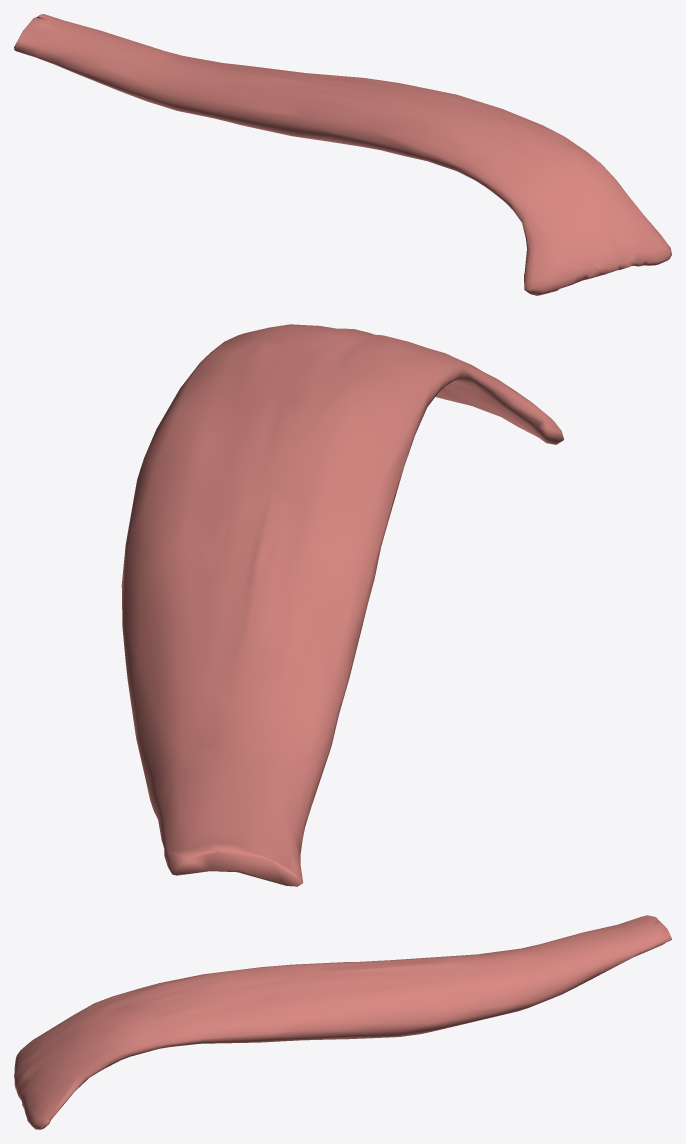
3 renders of one model, top to bottom at view 1: azimuth 30°, elevation 25°; view 2: azimuth 150°, elevation 25°; view 3: azimuth 270°, elevation 25°, orthographic. The views are drawn at different scales.
Visible parts, largest first — view 1: ZA_4c799a83290dbd61; view 2: ZA_4c799a83290dbd61; view 3: ZA_4c799a83290dbd61.
Part boxes in pixels (bbox=[...]): ZA_4c799a83290dbd61: bbox=[14, 14, 671, 295]; ZA_4c799a83290dbd61: bbox=[121, 324, 563, 886]; ZA_4c799a83290dbd61: bbox=[14, 915, 671, 1129].
Bounding box in the file's own units: 0.0229 × 0.00646 × 0.0406.
